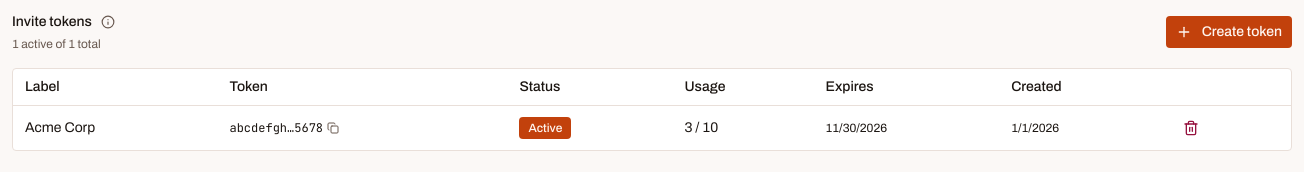
Test: AgentInviteTokensTab › copy to clipboard › shows "Copied" feedback text after clicking copy
This screenshot has width=1304, height=172.
Expected: the text "active" is shown, [519,117,572,139]
Click the button titled "Copy full token" at (333, 128), box [327,122,339,134]
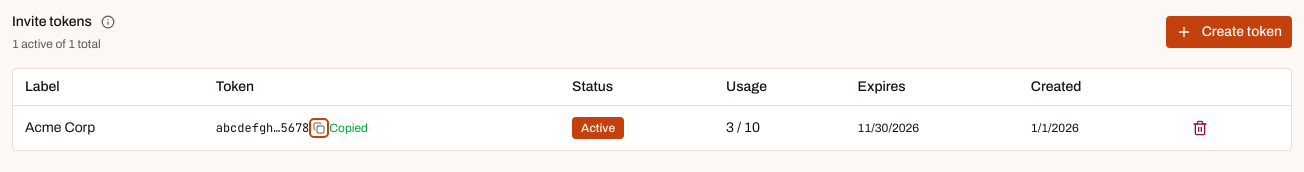
Result: the text "Copied" is shown at [329,120,368,136]
